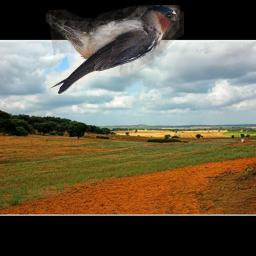Swallow: (46, 5, 184, 95)
